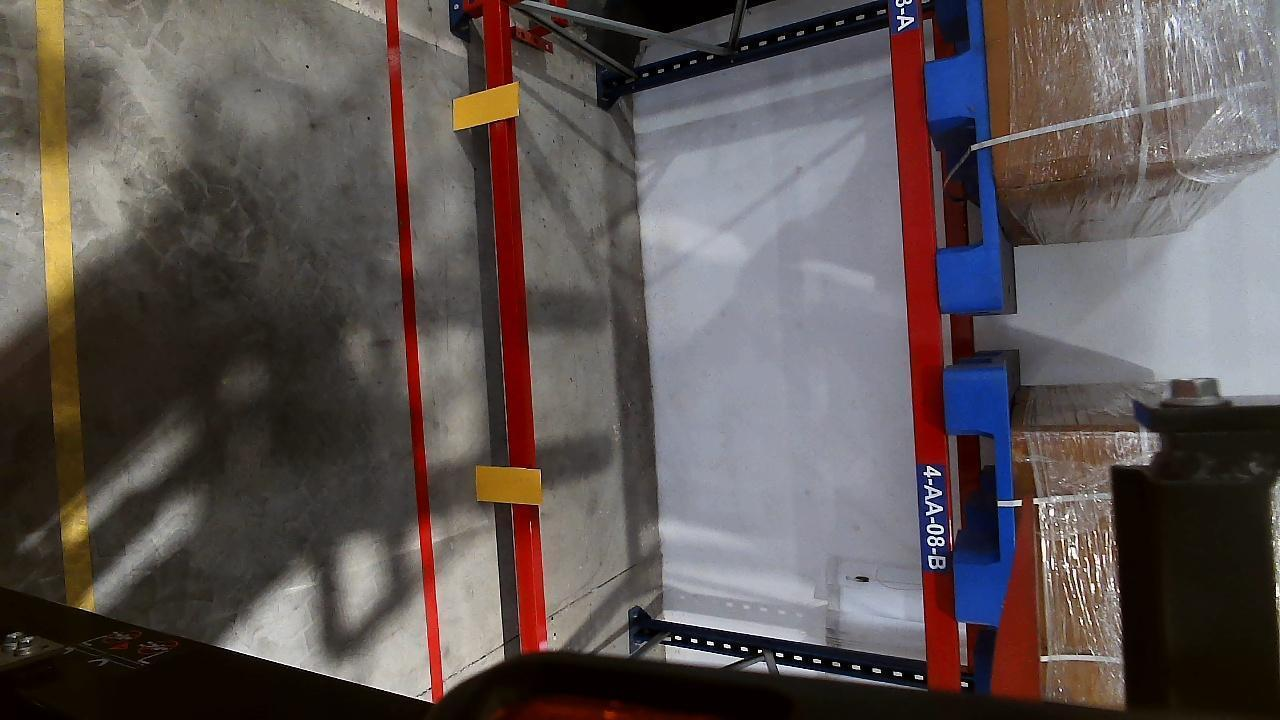red_line: (382, 7, 444, 692)
yellow_line: (28, 0, 106, 605)
